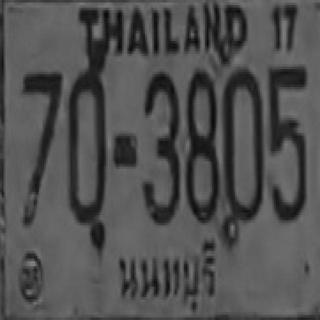N00: (221, 67, 262, 223), (66, 67, 105, 225)
N03: (140, 69, 180, 223)
N05: (267, 64, 306, 220)
N07: (21, 69, 60, 220)
N08: (184, 68, 218, 222)
P37: (113, 240, 223, 311)
